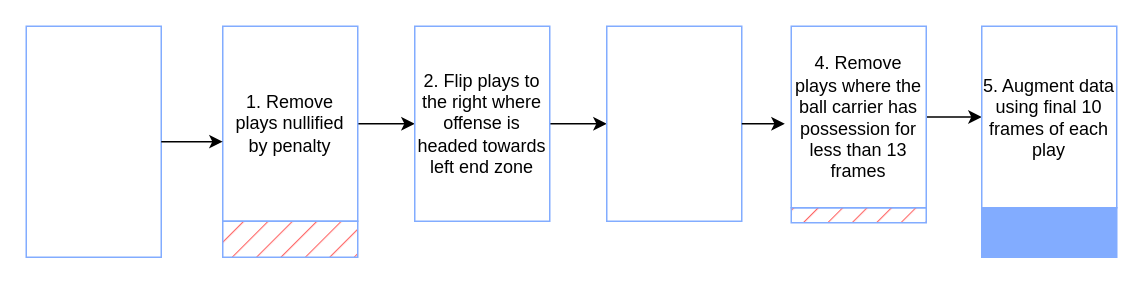
The diagram is 1143 pixels wide and 284 high, and some of its shapes have lost their labels. The centre of each missing label's shape, as x and y in pixels:
3. Identify start and end frame for training purposes: [673,123]
All plays: [93,141]
